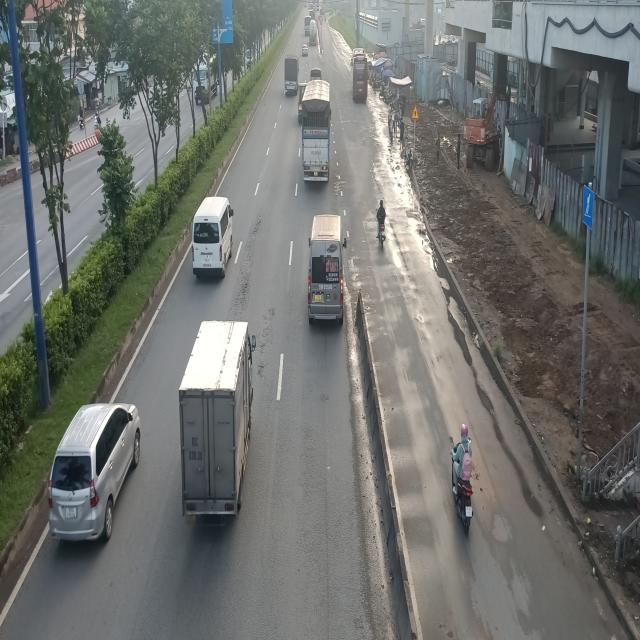car: (46, 403, 140, 549)
coach: (352, 49, 368, 103)
truck: (182, 322, 259, 525), (299, 78, 330, 183), (284, 55, 299, 96)
van: (308, 212, 344, 326), (192, 196, 236, 279)
